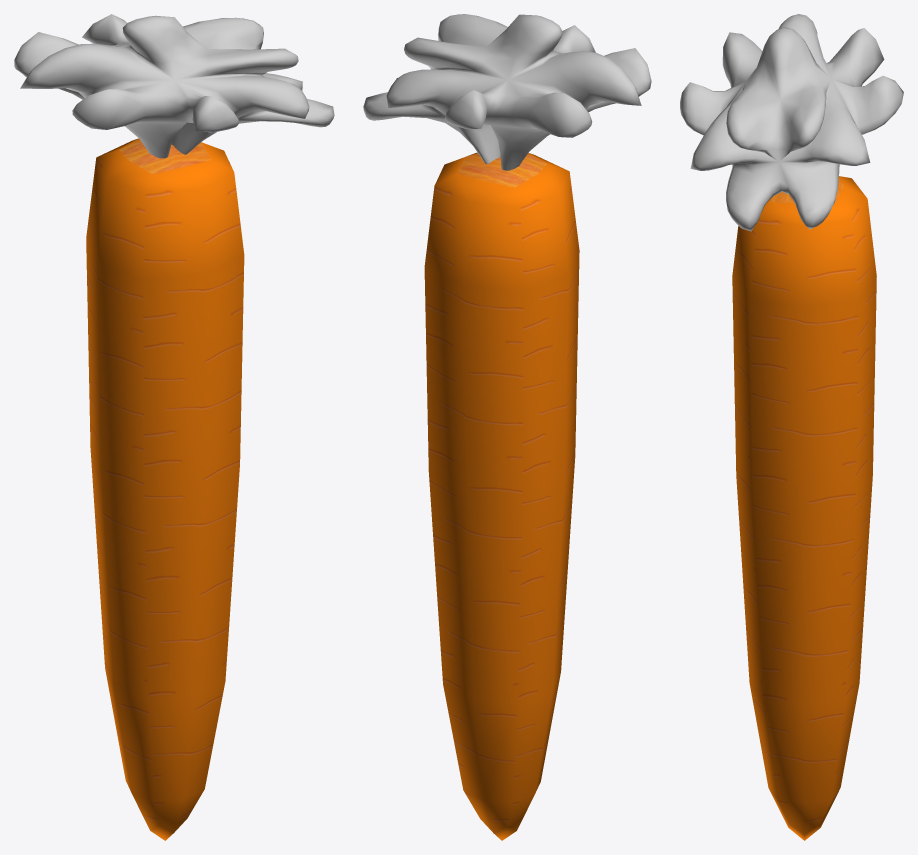
The model's file is Carotte.FBX.
The picture shows the model from 3 angles, left to right: view 1: azimuth 30°, elevation 25°; view 2: azimuth 150°, elevation 25°; view 3: azimuth 270°, elevation 25°; orthographic projection. The views are drawn at different scales.
Visible parts, largest first — view 1: Boîte001; view 2: Boîte001; view 3: Boîte001.
Part boxes in pixels (box(x1,y1,x2,y2)): Boîte001: box(14, 14, 334, 840); Boîte001: box(363, 14, 651, 840); Boîte001: box(680, 14, 903, 840).
Bounding box in the file's own units: 11.23 × 31.89 × 8.12.
